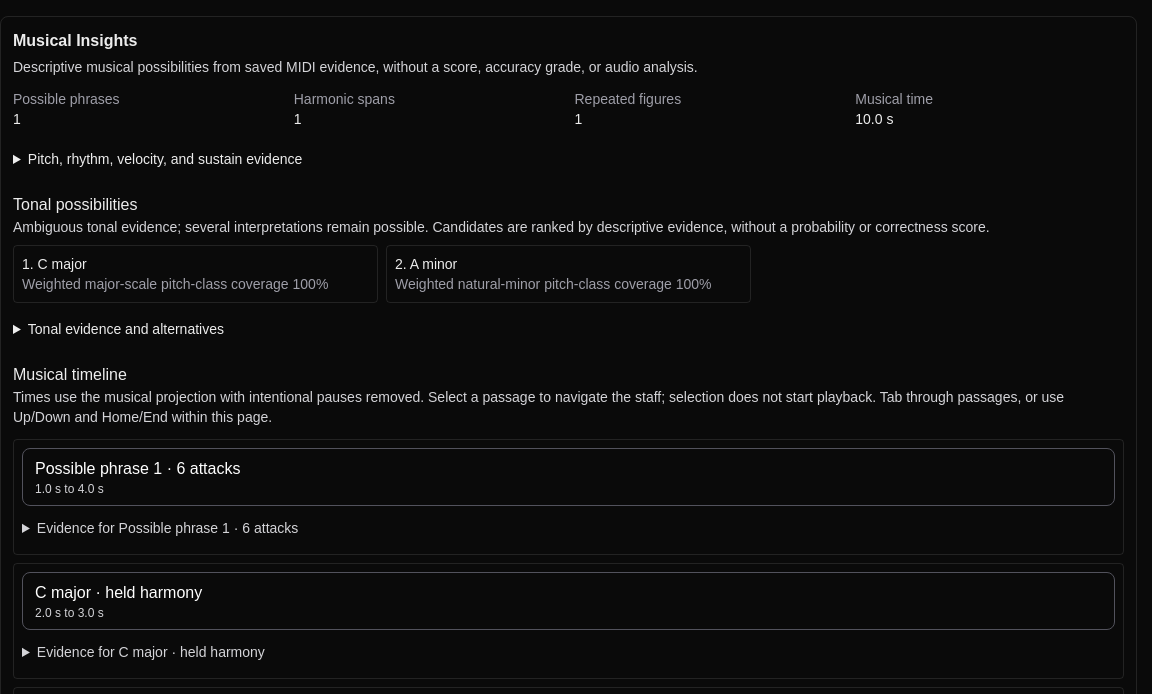
musical insights review › makes measured pitch, rhythm, velocity and unknown initial pedal evidence readable
Click the heading "Pitch, rhythm, velocity, and sustain evidence".
click(165, 159)  # box [28,151,302,167]
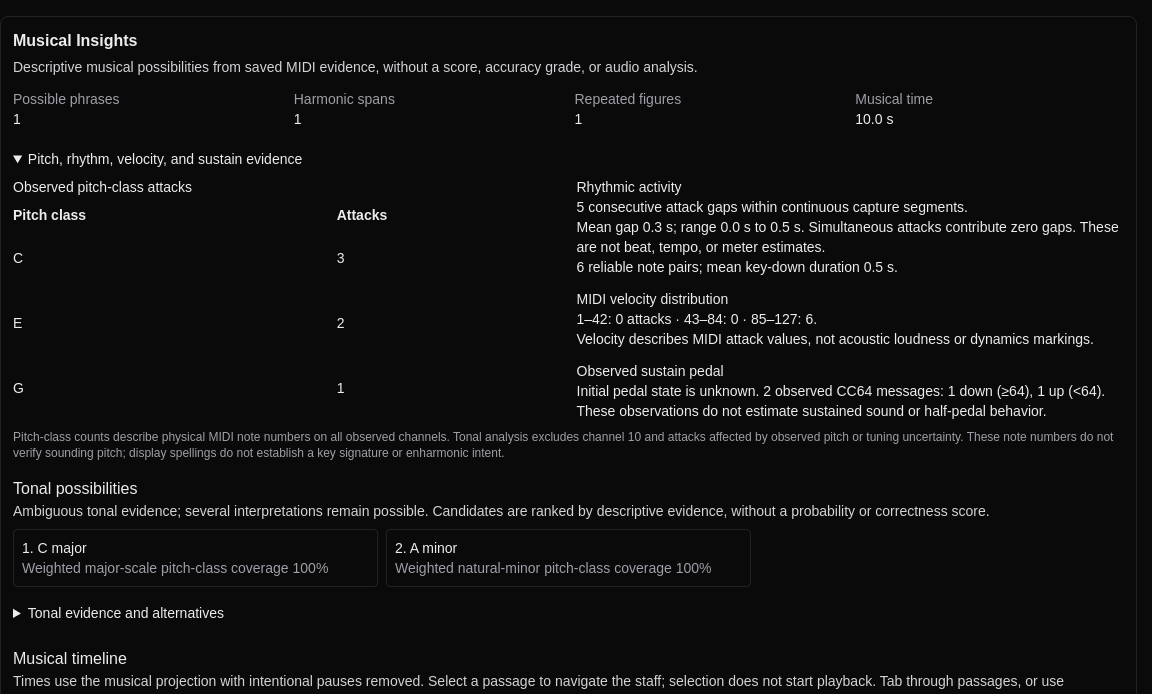
Now the row "C 3" is shown, box [13,225,560,290]
Now the text "5 consecutive attack gaps" is shown, box [576,199,968,215]
Now the text "Mean gap 0.3 s; range 0.0 s to 0.5 s" is shown, box [576,219,804,235]
